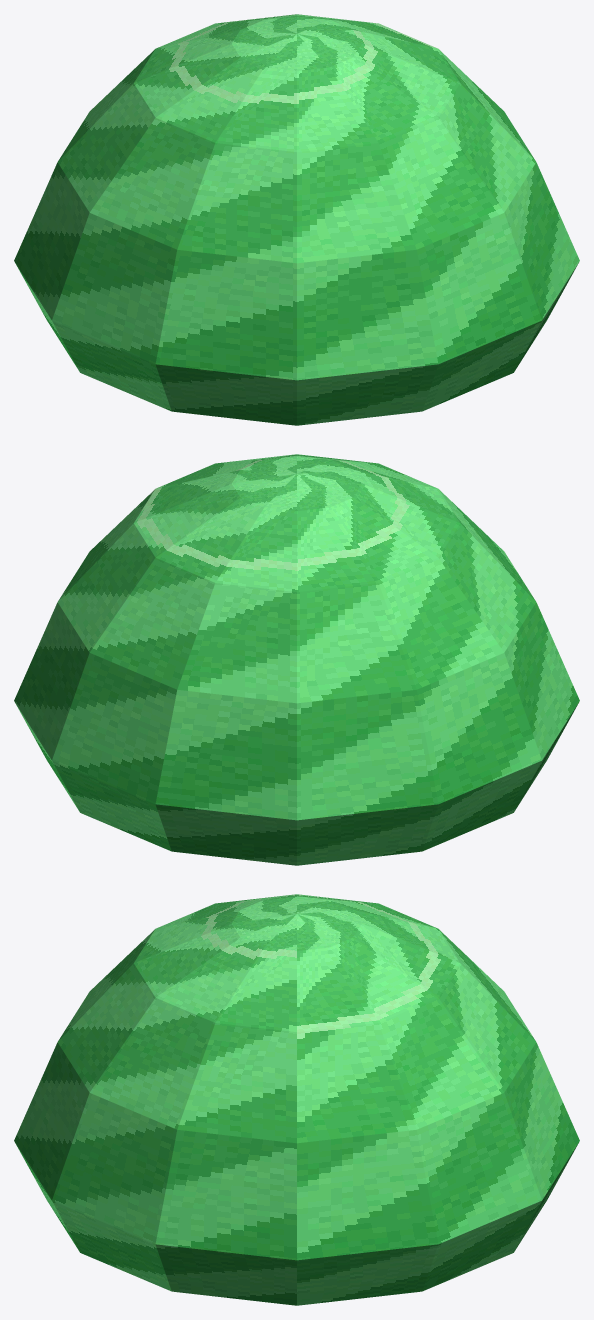
File: slime_verde.glb
3 views of the same model, one above another, from view 1: azimuth 30°, elevation 25°; view 2: azimuth 150°, elevation 25°; view 3: azimuth 270°, elevation 25° (orthographic).
Visible parts, largest first — view 1: SlimeBody; view 2: SlimeBody; view 3: SlimeBody.
Part boxes in pixels (x1,y1,x2,y2): SlimeBody: (14, 14, 579, 425); SlimeBody: (14, 454, 579, 865); SlimeBody: (14, 894, 579, 1305).
Bounding box in the file's own units: 1.04 × 0.6 × 1.04.
Materials: 1 (1 with a texture image).
